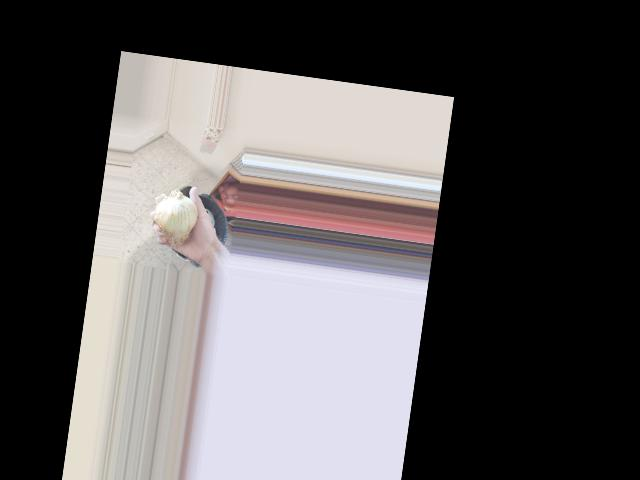onion: (152, 189, 202, 248)
